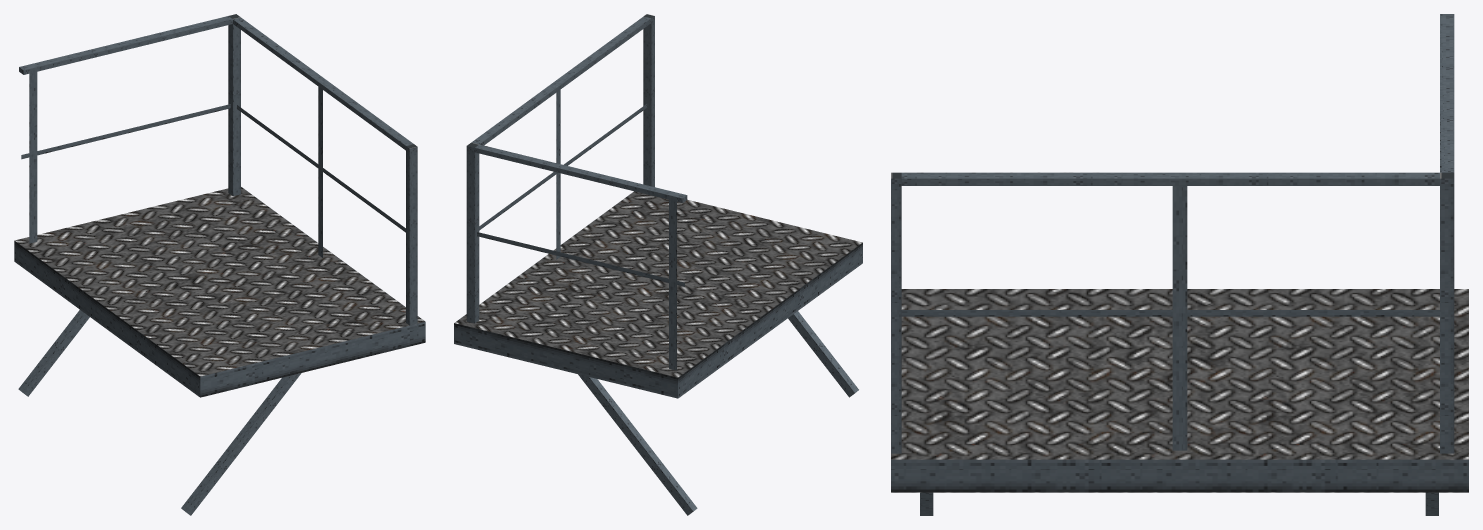
Rendered from mMetalCatwalkOneCnr01.obj.
3 views of the same model, side by side, from view 1: azimuth 30°, elevation 25°; view 2: azimuth 150°, elevation 25°; view 3: azimuth 270°, elevation 25° (orthographic). The views are drawn at different scales.
Visible parts, largest first — view 1: MetalCatwalkOneCnr01; view 2: MetalCatwalkOneCnr01; view 3: MetalCatwalkOneCnr01.
Part boxes in pixels (box(x1,y1,x2,y2)): MetalCatwalkOneCnr01: box(14, 14, 425, 515); MetalCatwalkOneCnr01: box(454, 14, 862, 515); MetalCatwalkOneCnr01: box(891, 14, 1468, 515).
Bounding box in the file's own units: 2.87 × 3.83 × 4.
